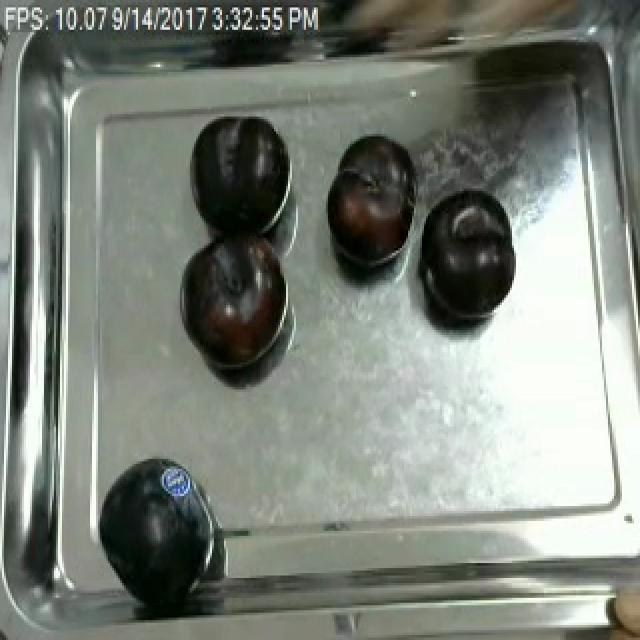Fruit: (86, 444, 226, 615), (178, 226, 290, 377), (412, 186, 522, 335), (322, 129, 420, 275), (184, 112, 292, 240)
